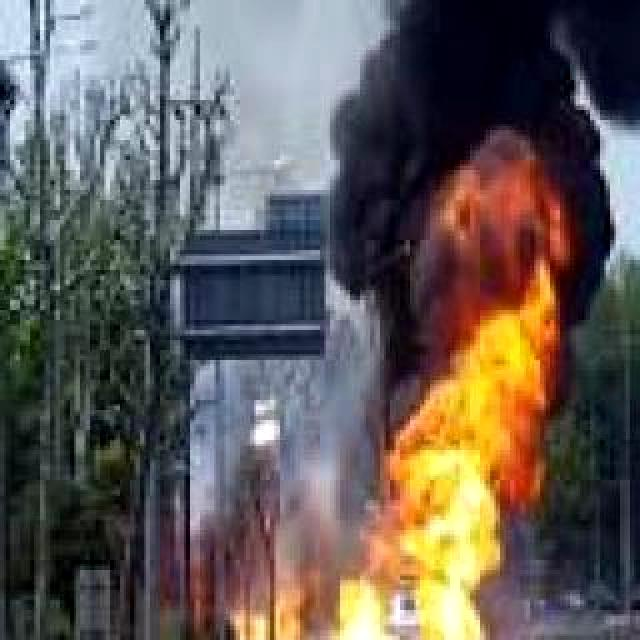fire: (382, 424, 480, 640), (465, 283, 553, 439), (484, 445, 534, 515), (342, 560, 380, 640), (232, 600, 302, 640)
smoke: (308, 0, 640, 408)
